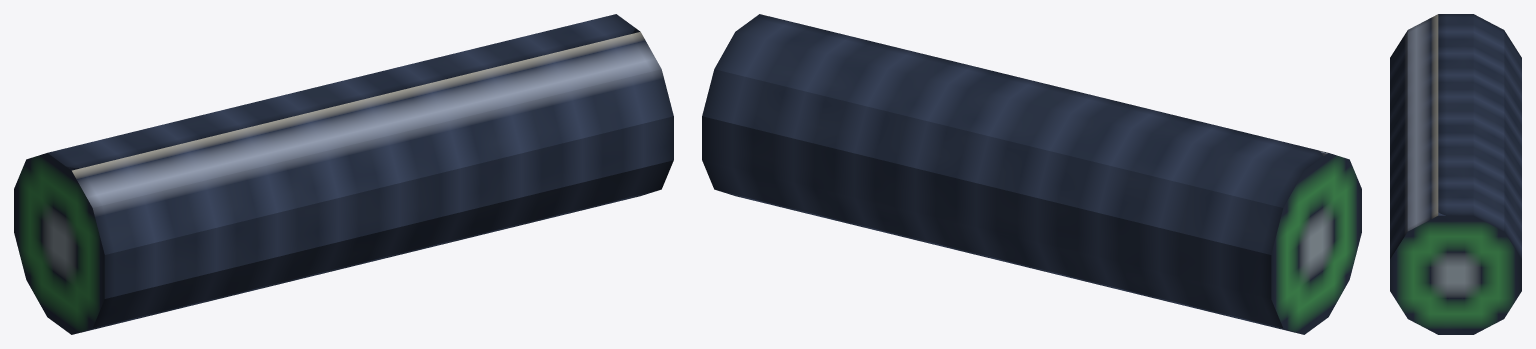
Rendered from era2_drum_bank_drum_2.obj.
3 renders of one model, left to right at view 1: azimuth 30°, elevation 25°; view 2: azimuth 150°, elevation 25°; view 3: azimuth 270°, elevation 25°, orthographic. The views are drawn at different scales.
Visible parts, largest first — view 1: era2_drum_bank_drum_2; view 2: era2_drum_bank_drum_2; view 3: era2_drum_bank_drum_2.
Boxes of the visible parts, left/top/right/bottom form: era2_drum_bank_drum_2: left=14, top=14, right=673, bottom=334; era2_drum_bank_drum_2: left=702, top=14, right=1361, bottom=334; era2_drum_bank_drum_2: left=1390, top=14, right=1521, bottom=334.
Size of the model in its own units: 1.75 by 0.483 by 0.483.
